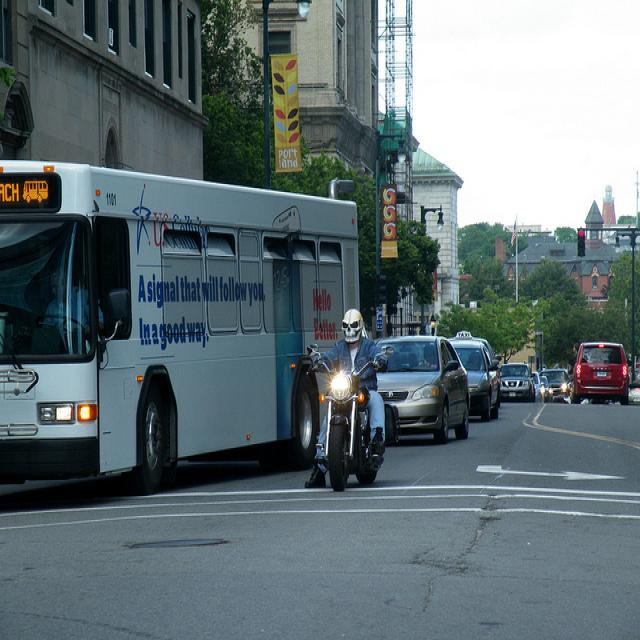motor: (298, 342, 396, 492)
